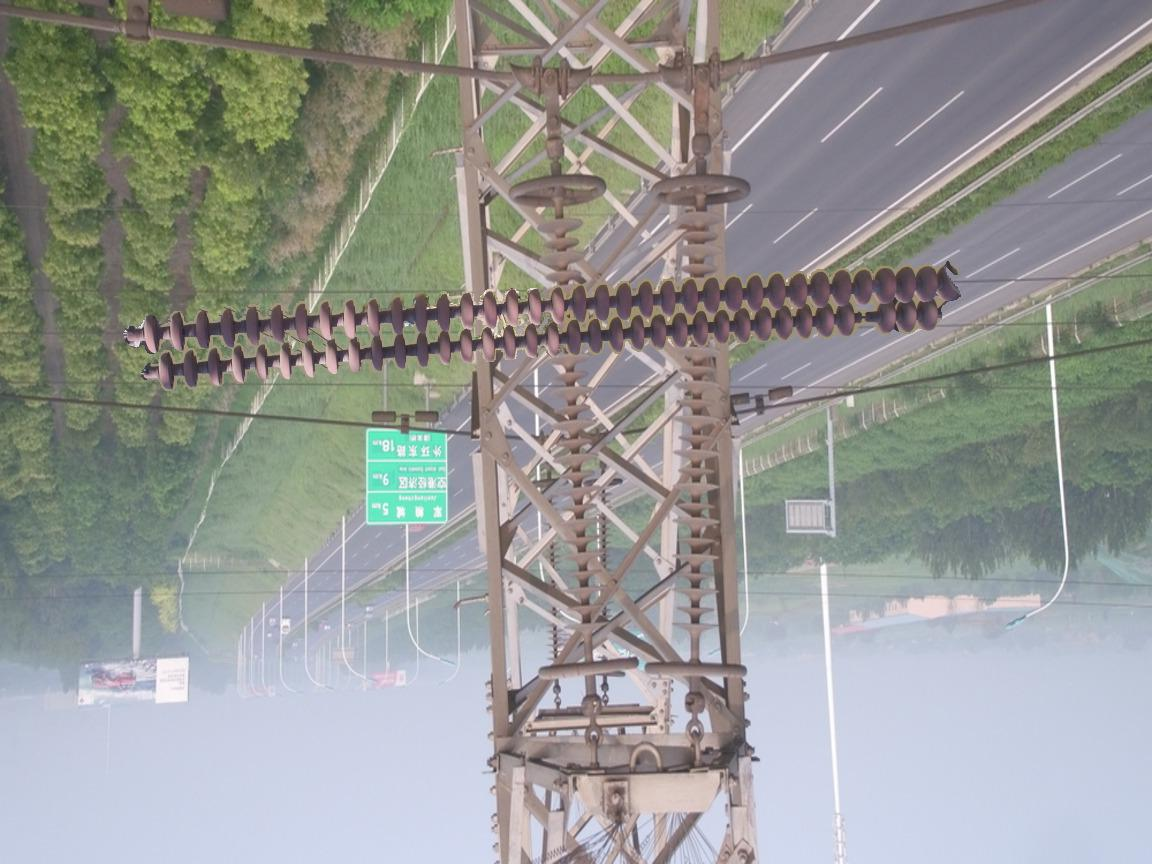insulator: (131, 256, 962, 391), (530, 208, 619, 641), (667, 201, 730, 646)
insulator_stringdrop: (834, 299, 899, 340)
